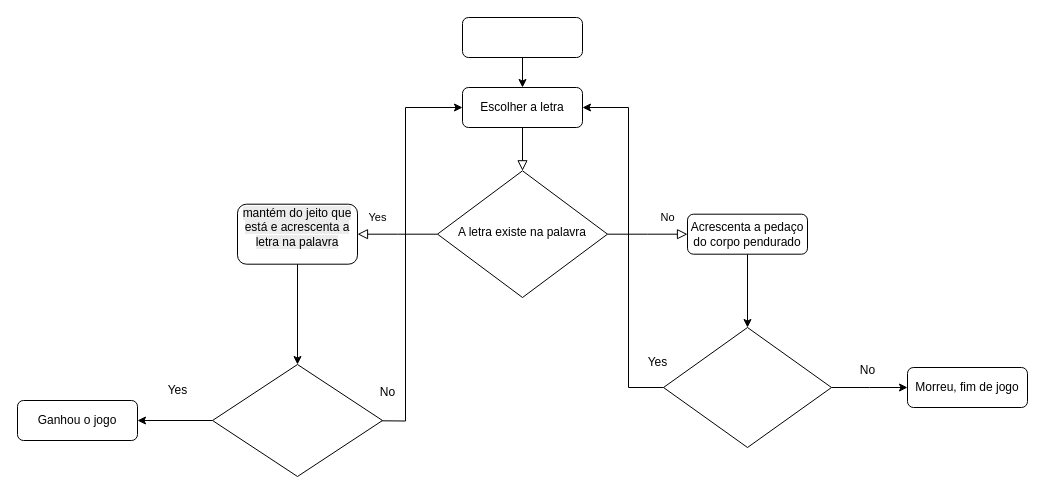
Image size: 1045x494. Some labels were removed from this diagram. Here are the shapes that lost their labels. From the top down, the centre of each, then its label:
At (522,37): "Descobrir a palavra".
At (747,387): "Ainda tem corpo para pendurar".
At (297,420): "Terminou a palavra?".
